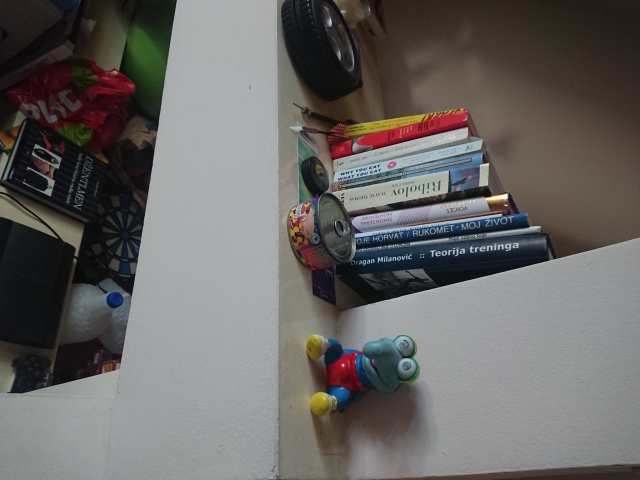Giana Tuna Salad Mexico 185g: (284, 191, 357, 274)
